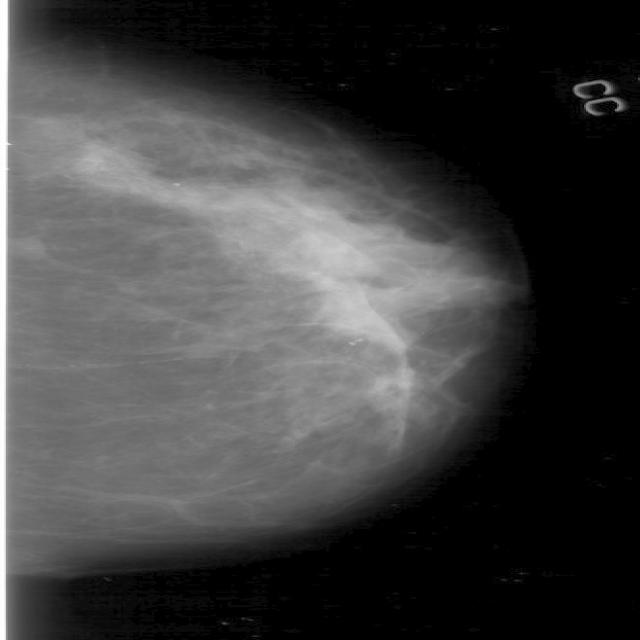tumour: (68, 140, 152, 193)
